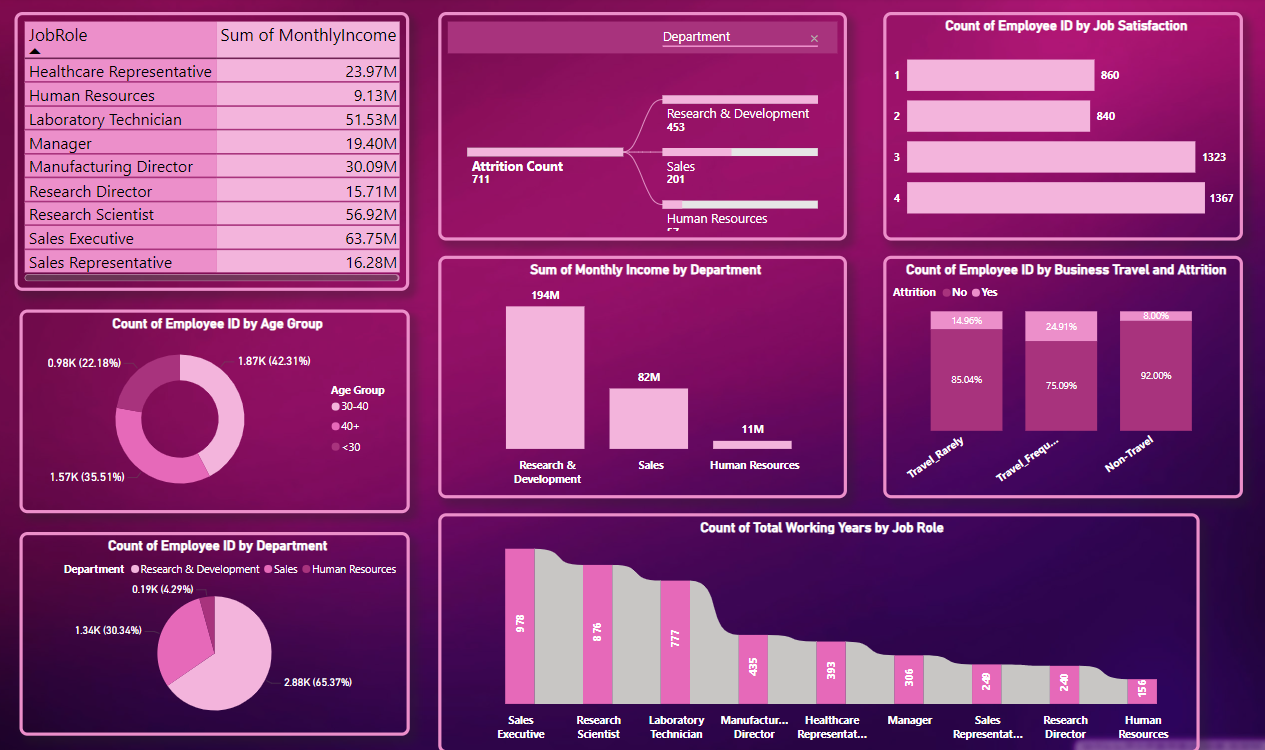

This screenshot's page, from the dashboard's own definition file:
{"tool":"powerbi","page":{"name":"Page 3","canvas":[1600,950],"ordinal":1},"visuals":[{"type":"pieChart","title":"Count of Employee ID by Department","fields":{"Category":["Attrition data.Department"],"Y":["CountNonNull(Attrition data.EmployeeID)"]},"box":[28.3,672.3,490.1,256],"z":0},{"type":"clusteredBarChart","title":"Count of Employee ID by Job Satisfaction","fields":{"Category":["Attrition data.JobSatisfaction"],"Y":["CountNonNull(Attrition data.EmployeeID)"]},"box":[1113.7,18.8,452.4,287.5],"z":1000},{"type":"decompositionTreeVisual","fields":{"ExplainBy":["Attrition data.Department"],"Analyze":["Attrition data.Attrition Count"]},"box":[554.5,18.8,513.6,287.5],"z":2000},{"type":"tableEx","fields":{"Values":["Attrition data.JobRole","Sum(Attrition data.MonthlyIncome)"]},"box":[22,18.8,496.4,350.3],"z":3000},{"type":"clusteredColumnChart","title":"Sum of Monthly Income by Department","fields":{"Category":["Attrition data.Department"],"Y":["Sum(Attrition data.MonthlyIncome)"]},"box":[554.5,325.2,513.6,304.7],"z":4000},{"type":"hundredPercentStackedColumnChart","title":"Count of Employee ID by Business Travel and Attrition","fields":{"Category":["Attrition data.BusinessTravel"],"Series":["Attrition data.Attrition"],"Y":["CountNonNull(Attrition data.EmployeeID)"]},"box":[1113.7,325.2,452.4,304.7],"z":5000},{"type":"ribbonChart","title":"Count of Total Working Years by Job Role","fields":{"Category":["Attrition data.JobRole"],"Y":["CountNonNull(Attrition data.TotalWorkingYears)"]},"box":[554.5,648.7,956.6,301.6],"z":6000},{"type":"donutChart","title":"Count of Employee ID by Age Group","fields":{"Category":["Attrition data.Age Group"],"Y":["CountNonNull(Attrition data.EmployeeID)"]},"box":[28.3,392.7,490.1,256],"z":7000}]}

Visuals, with their boxes in screenshot pixels (x1, y1, x2, y2), scaled from the page's 1600x950 canvas onto the 1265x750 screenshot:
"Count of Employee ID by Department" pieChart: (left=22, top=531, right=410, bottom=733)
"Count of Employee ID by Job Satisfaction" clusteredBarChart: (left=881, top=15, right=1238, bottom=242)
decompositionTreeVisual - Attrition data.Department x Attrition data.Attrition Count: (left=438, top=15, right=844, bottom=242)
tableEx - Attrition data.JobRole x Sum(Attrition data.MonthlyIncome): (left=17, top=15, right=410, bottom=291)
"Sum of Monthly Income by Department" clusteredColumnChart: (left=438, top=257, right=844, bottom=497)
"Count of Employee ID by Business Travel and Attrition" hundredPercentStackedColumnChart: (left=881, top=257, right=1238, bottom=497)
"Count of Total Working Years by Job Role" ribbonChart: (left=438, top=512, right=1195, bottom=749)
"Count of Employee ID by Age Group" donutChart: (left=22, top=310, right=410, bottom=512)
